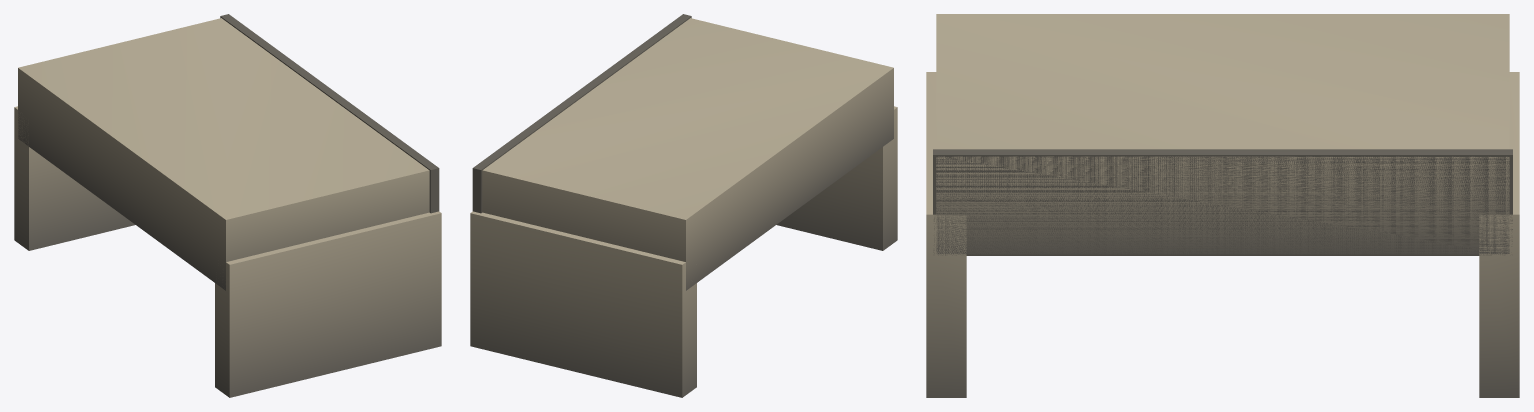
Rendered from bridge_slab.glb.
The picture shows the model from 3 angles, left to right: view 1: azimuth 30°, elevation 25°; view 2: azimuth 150°, elevation 25°; view 3: azimuth 270°, elevation 25°; orthographic projection. The views are drawn at different scales.
Parts seen in each view (by area): view 1: Bridge; view 2: Bridge; view 3: Bridge.
Part boxes in pixels (left/top/right/bottom): Bridge: left=14, top=14, right=441, bottom=397; Bridge: left=470, top=14, right=897, bottom=397; Bridge: left=926, top=14, right=1519, bottom=397.
Size of the model in its own units: 1 by 0.795 by 1.76.
